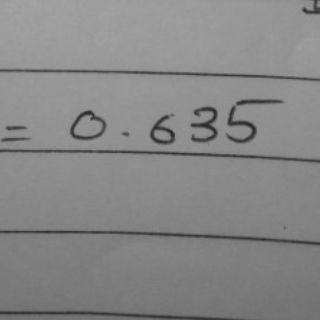.: (119, 124, 130, 142)
0: (65, 105, 108, 145)
3: (190, 102, 220, 145)
5: (225, 93, 286, 146)
6: (149, 109, 178, 146)
